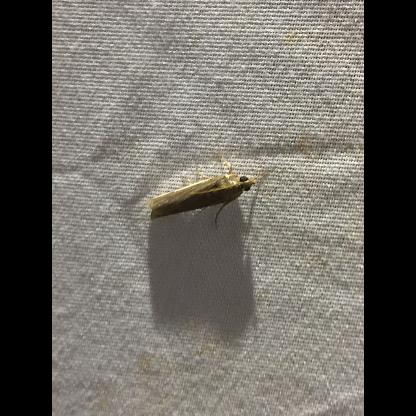Fall Armyworm Moth: (143, 154, 269, 233)
